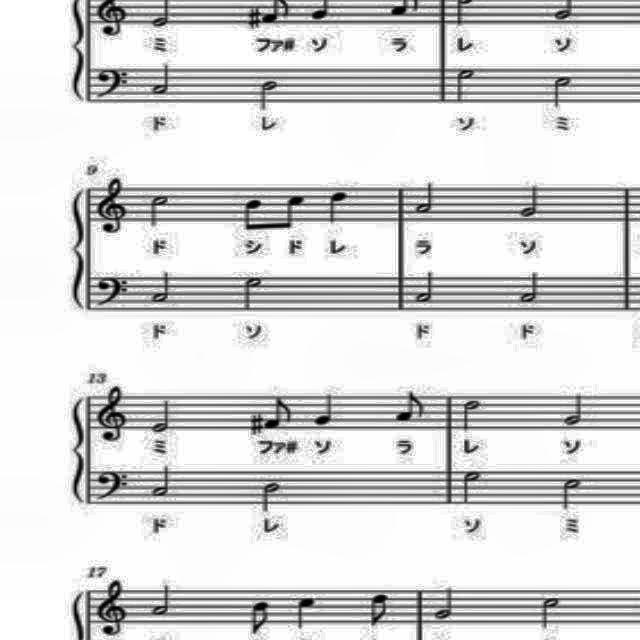Bass-clef: (94, 64, 130, 104), (96, 270, 132, 310), (91, 468, 133, 500)
Diez: (245, 411, 269, 437), (246, 6, 266, 34)
Eighth-note: (273, 188, 309, 232), (236, 189, 268, 237), (262, 396, 298, 434), (394, 388, 428, 428), (365, 586, 391, 630), (248, 598, 272, 636)
Half-note: (448, 61, 479, 109), (458, 467, 492, 509), (238, 274, 266, 318), (146, 392, 174, 436), (408, 179, 437, 221), (514, 270, 544, 310), (147, 186, 173, 232), (431, 580, 457, 626), (540, 591, 568, 633), (149, 579, 177, 621), (559, 475, 589, 513), (252, 75, 280, 113), (546, 73, 574, 109), (412, 267, 438, 305), (258, 477, 282, 518), (148, 58, 172, 98), (562, 390, 586, 430), (458, 398, 486, 432), (151, 266, 173, 306), (518, 182, 542, 218), (150, 466, 174, 502)
Quarter-note: (326, 186, 354, 227), (314, 390, 342, 430), (293, 588, 317, 630)
Treble-clef: (94, 172, 134, 240), (95, 383, 134, 445), (96, 579, 132, 639)
